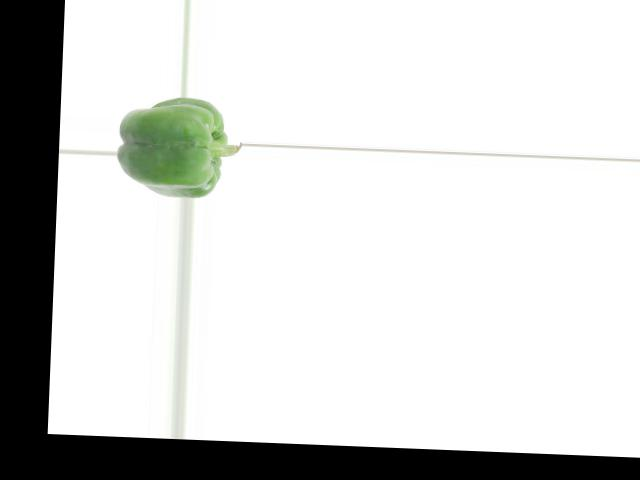bell_pepper: (115, 95, 241, 197)
